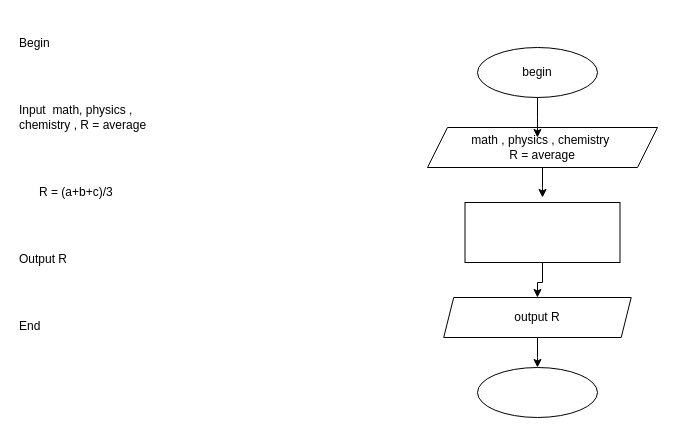
Image size: 675x444. Some labels were removed from this diagram. The shapes that lost their labels are listed below. From the top down, each one's centre as x and y in pixels, then its label:
the point at 542,232: R = (math + physics + chemistry) / 3
the point at 537,392: end
